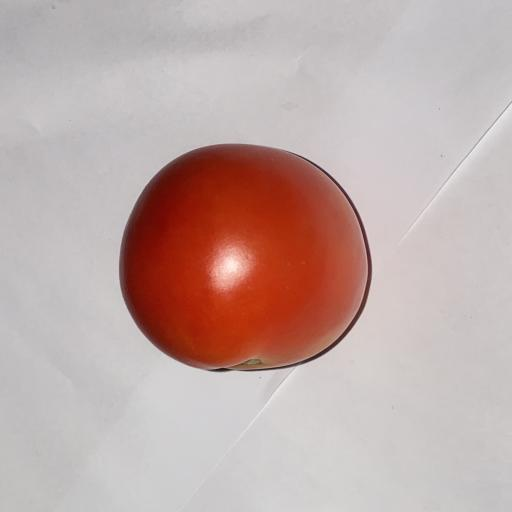ripe: (120, 145, 368, 369)
